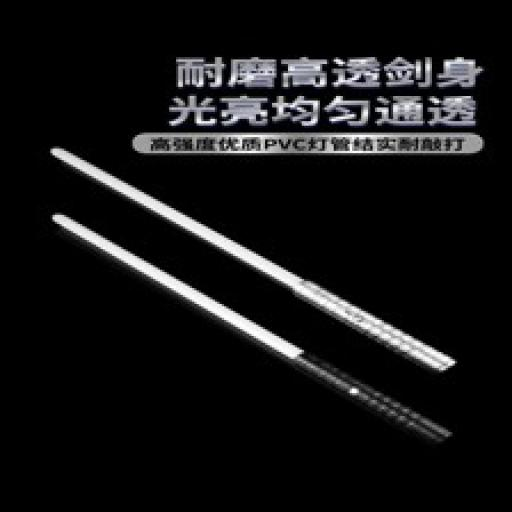lightsaber: (56, 209, 456, 444)
